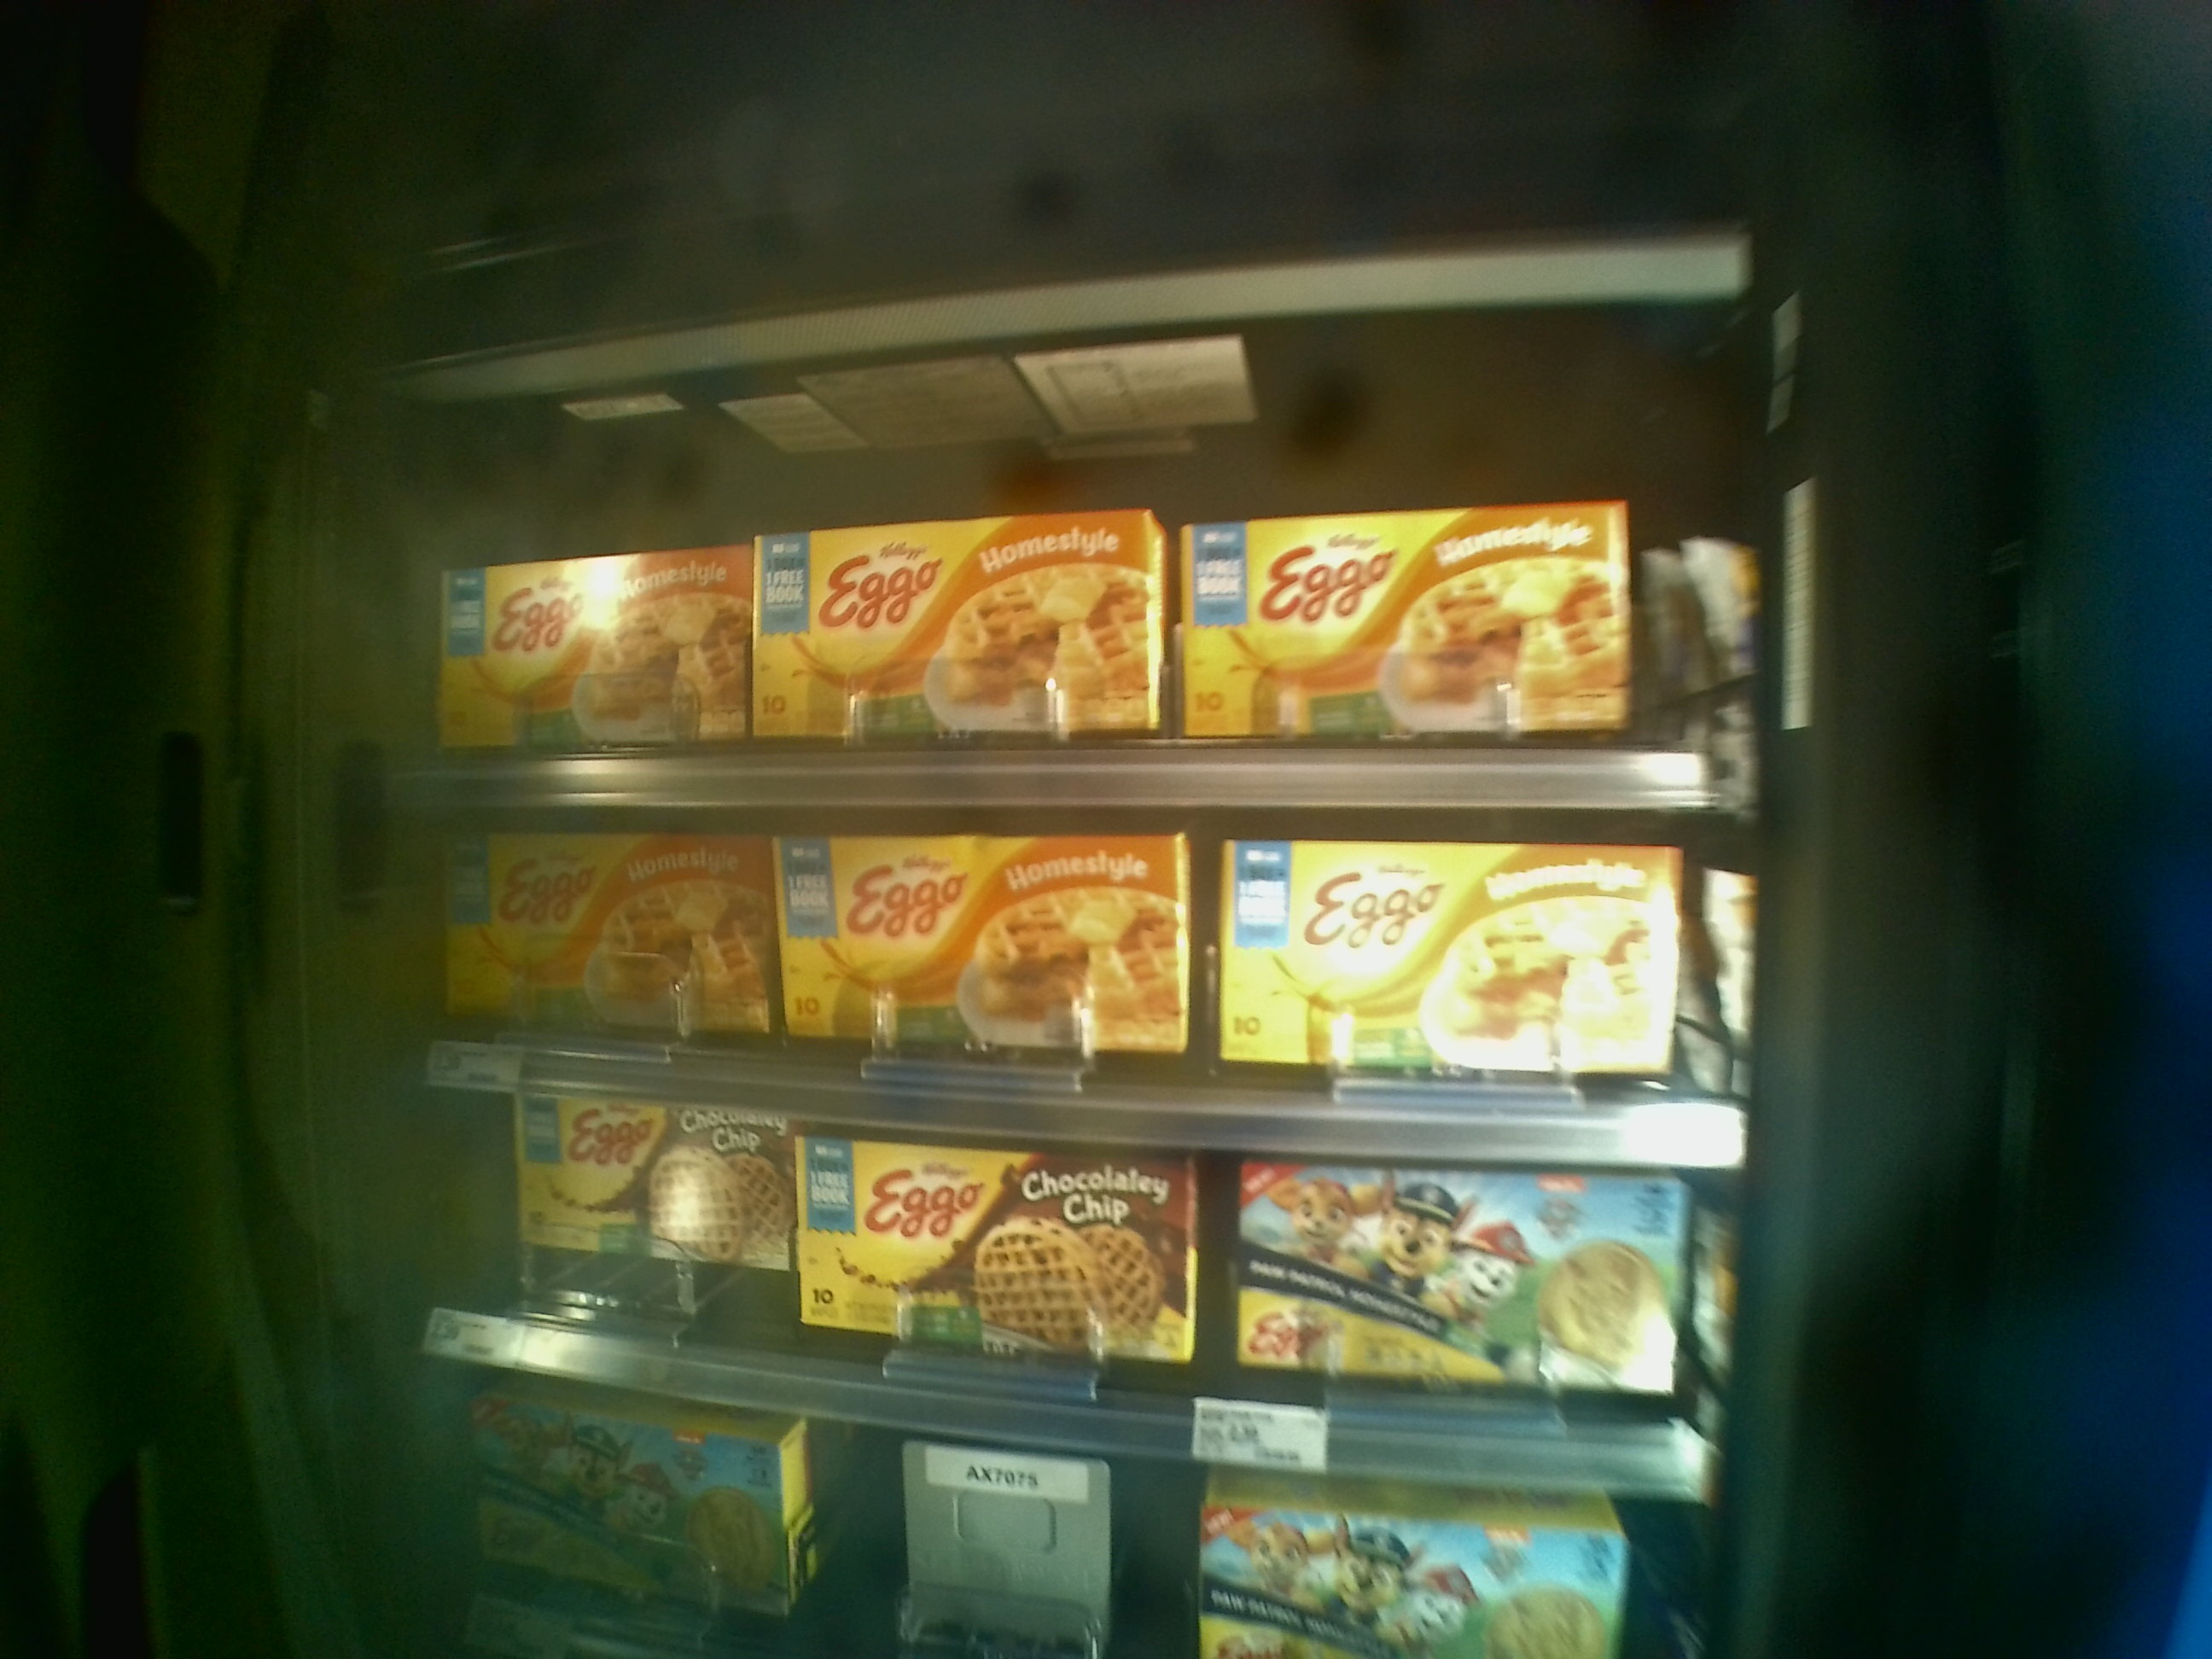shelf: (411, 788, 1775, 1175)
